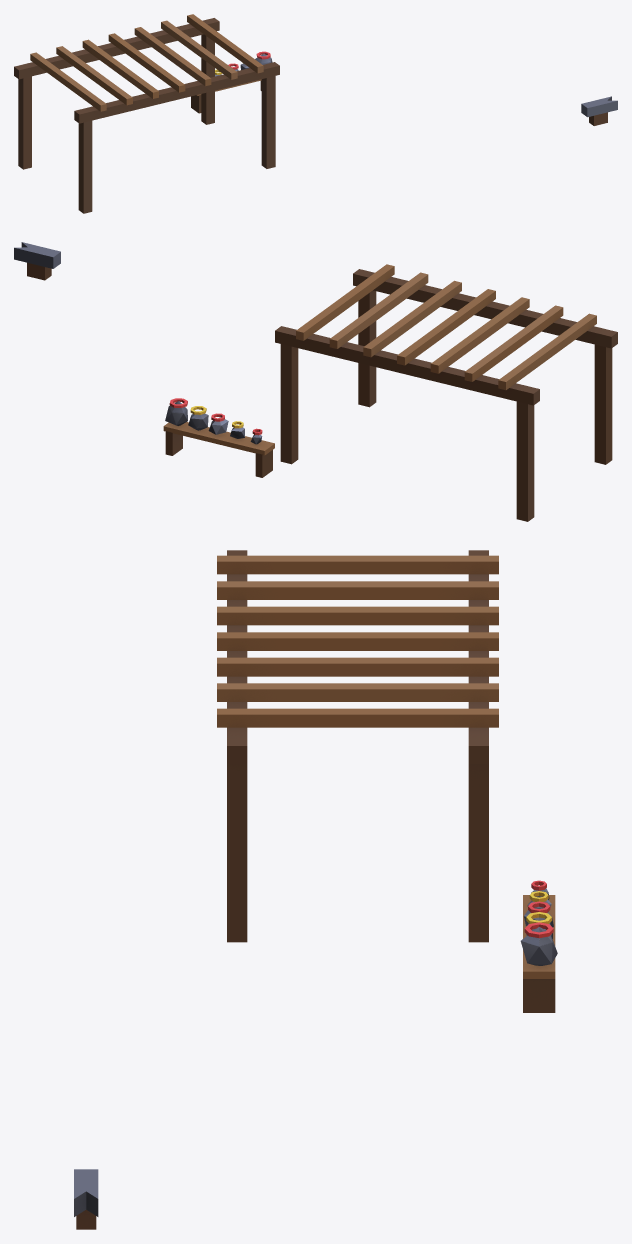
Rendered from area_gym_4_5.fbx.
3 renders of one model, top to bottom at view 1: azimuth 30°, elevation 25°; view 2: azimuth 150°, elevation 25°; view 3: azimuth 270°, elevation 25°, orthographic. The views are drawn at different scales.
Visible parts, largest first — view 1: area_gym_4_5_body; view 2: area_gym_4_5_body; view 3: area_gym_4_5_body.
Part boxes in pixels (x1,y1,x2,y2): area_gym_4_5_body: [14, 14, 617, 213]; area_gym_4_5_body: [14, 242, 617, 521]; area_gym_4_5_body: [74, 550, 557, 1229].
Size of the model in its own units: 14350 by 2925 by 6007.
1 material, 1 textured.
